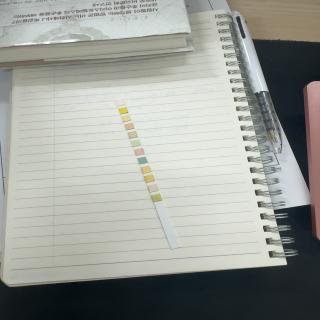mark: (131, 140, 140, 146), (128, 132, 136, 138), (145, 176, 153, 182), (149, 186, 157, 192), (153, 194, 161, 200), (119, 108, 128, 113), (122, 116, 130, 121), (125, 124, 133, 129), (139, 158, 147, 163), (142, 167, 150, 172), (116, 101, 124, 105), (135, 150, 143, 154)
